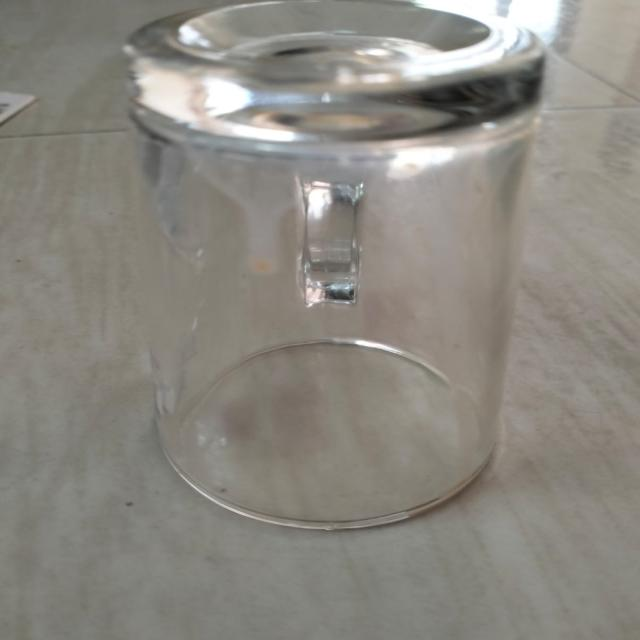glass-VX4N: (121, 3, 553, 532)
